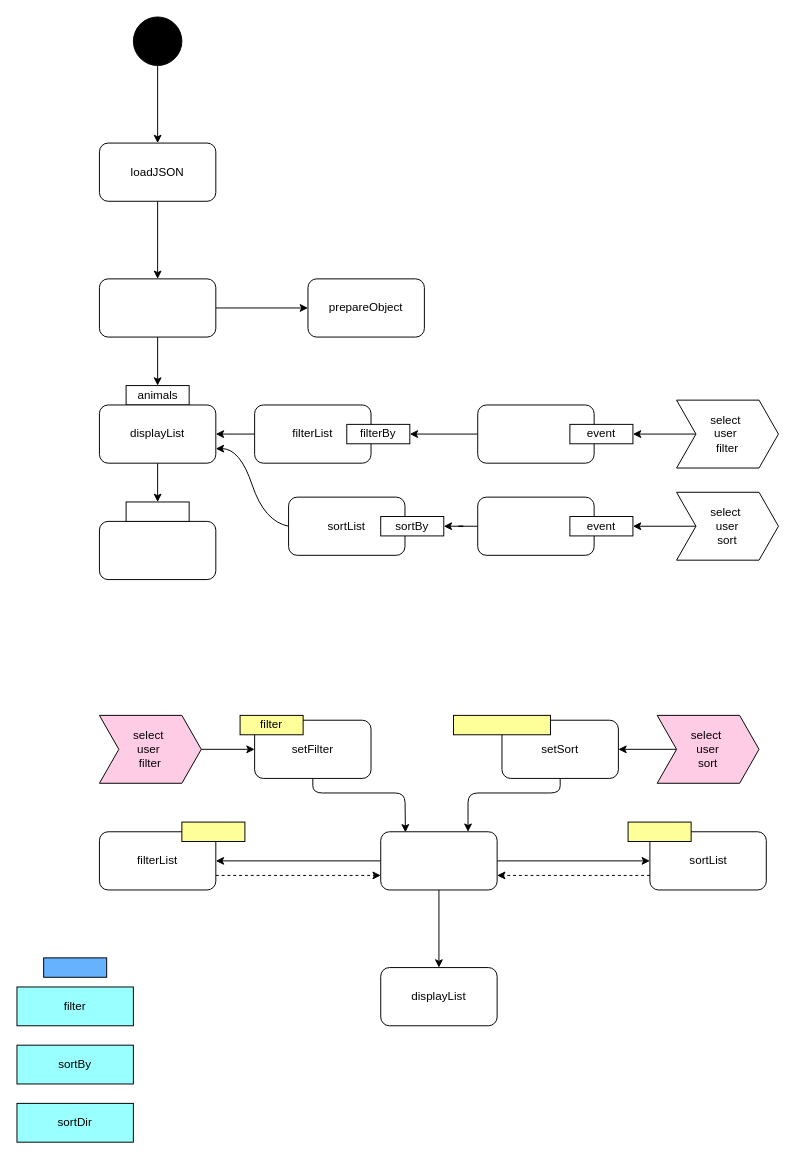
The diagram is 795 pixels wide and 1159 high, and some of its shapes have lost their labels. Each missing label, with the centre of its shape:
"animal" belongs at point 157,511.
"buildList" belongs at point 438,860.
"displayAnimal" belongs at point 157,550.
"filteredList" belongs at point 213,831.
"prepareObjects" belongs at point 157,307.
"selectFilter" belongs at point 535,433.
"selectSort" belongs at point 535,525.
"settings" belongs at point 75,967.
"sortBy, sortDir" belongs at point 501,724.
"sortedList" belongs at point 659,831.
